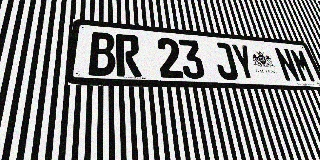2: (156, 37, 184, 78)
3: (178, 39, 205, 79)
B: (88, 31, 116, 76)
J: (211, 42, 239, 80)
M: (289, 49, 317, 83)
N: (273, 47, 302, 82)
R: (116, 34, 142, 77)
Y: (230, 43, 258, 81)
